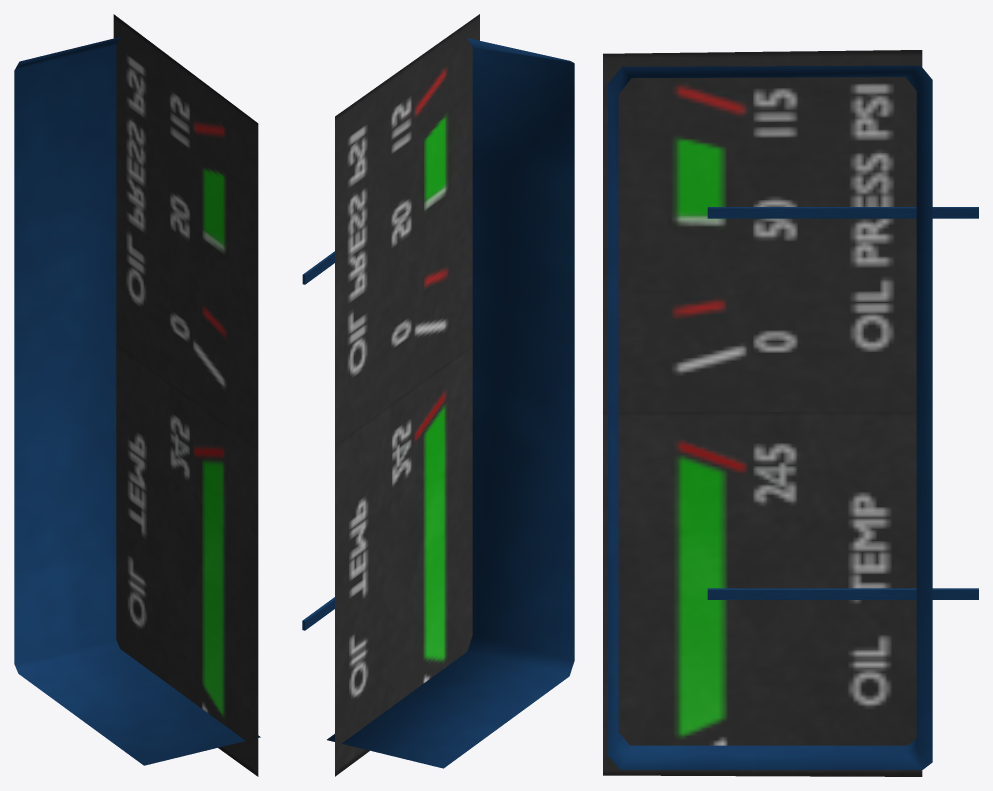
Rendered from oil.gltf.
3 renders of one model, left to right at view 1: azimuth 30°, elevation 25°; view 2: azimuth 150°, elevation 25°; view 3: azimuth 270°, elevation 25°, orthographic. The views are drawn at different scales.
Parts seen in each view (by area): view 1: Face, Case; view 2: Face, Case; view 3: Face, Case, OilTempNeedle, OilPressNeedle.
Boxes of the visible parts, x1,y1,x2,y2 form: Face: [113, 14, 258, 776]; Case: [14, 37, 260, 765]; Face: [335, 14, 479, 776]; Case: [327, 38, 574, 768]; Face: [603, 50, 922, 776]; Case: [608, 65, 932, 769]; OilTempNeedle: [707, 588, 978, 599]; OilPressNeedle: [707, 207, 978, 218].
Bounding box in the file's own units: 0.0116 × 0.0611 × 0.0286.
1 material, 1 textured.
